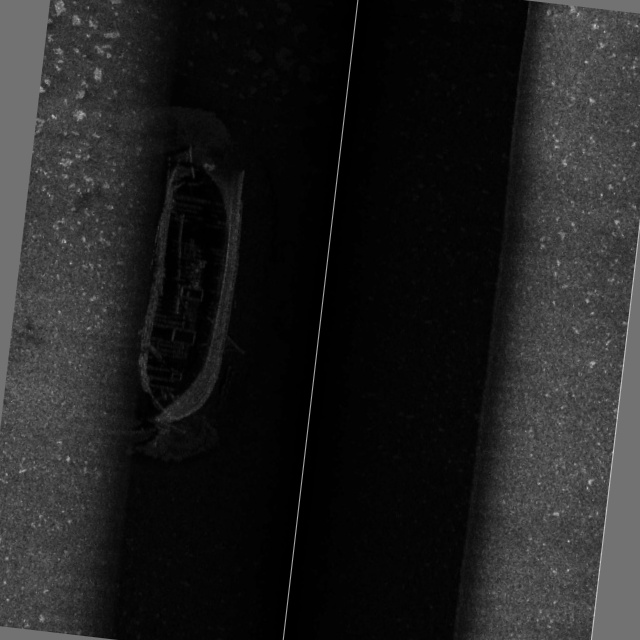Shipwreck: (125, 143, 266, 446)
